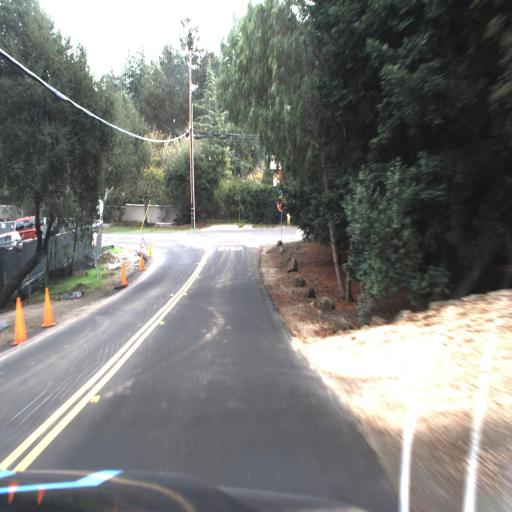car: (12, 209, 44, 247)
